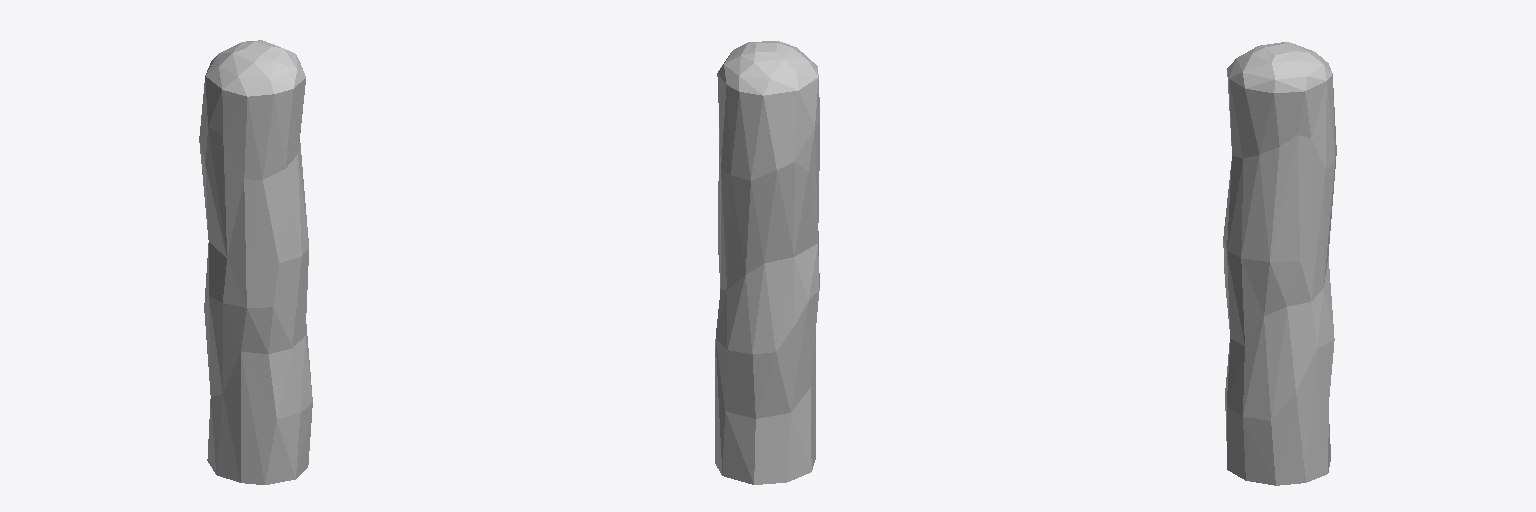
The model's file is Cactus03_new.obj.
The picture shows the model from 3 angles: view 1: azimuth 30°, elevation 25°; view 2: azimuth 150°, elevation 25°; view 3: azimuth 270°, elevation 25°; orthographic projection.
Visible parts, largest first — view 1: Cylinder; view 2: Cylinder; view 3: Cylinder.
Boxes of the visible parts, x1,y1,x2,y2 form: Cylinder: [199, 40, 312, 484]; Cylinder: [715, 41, 819, 484]; Cylinder: [1223, 42, 1336, 485].
Bounding box in the file's own units: 0.4466 × 1.87 × 0.4635.